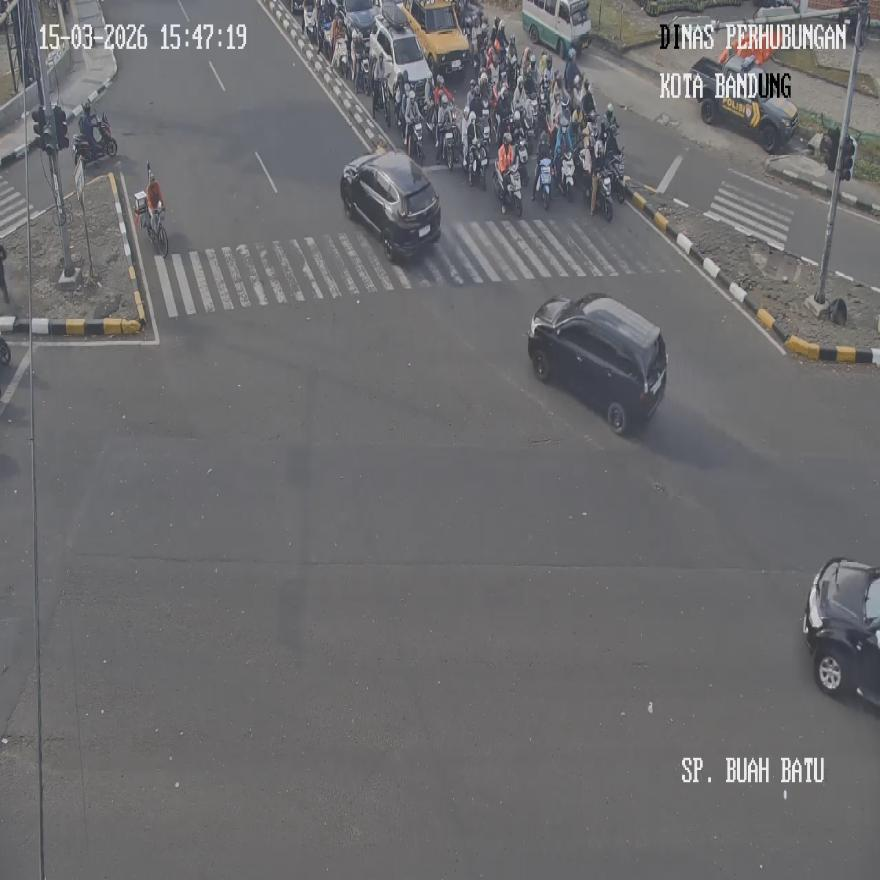Motor: (527, 291, 668, 434), (802, 556, 880, 708), (340, 149, 441, 263), (689, 48, 798, 152), (368, 2, 434, 109), (404, 0, 470, 82), (522, 0, 590, 57)
Truk: (71, 112, 117, 165), (132, 190, 168, 256), (495, 162, 522, 216), (590, 166, 612, 221), (606, 147, 627, 204), (439, 122, 460, 171), (467, 140, 487, 190), (534, 154, 552, 209), (405, 118, 424, 164), (558, 149, 575, 199)
